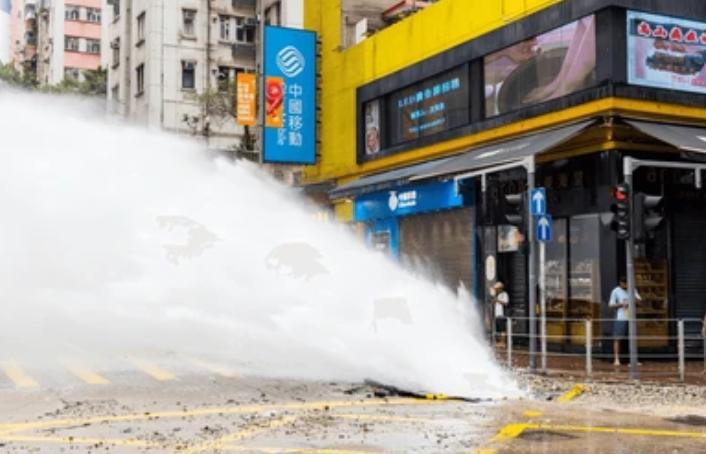pipe burst: (0, 80, 533, 401)
